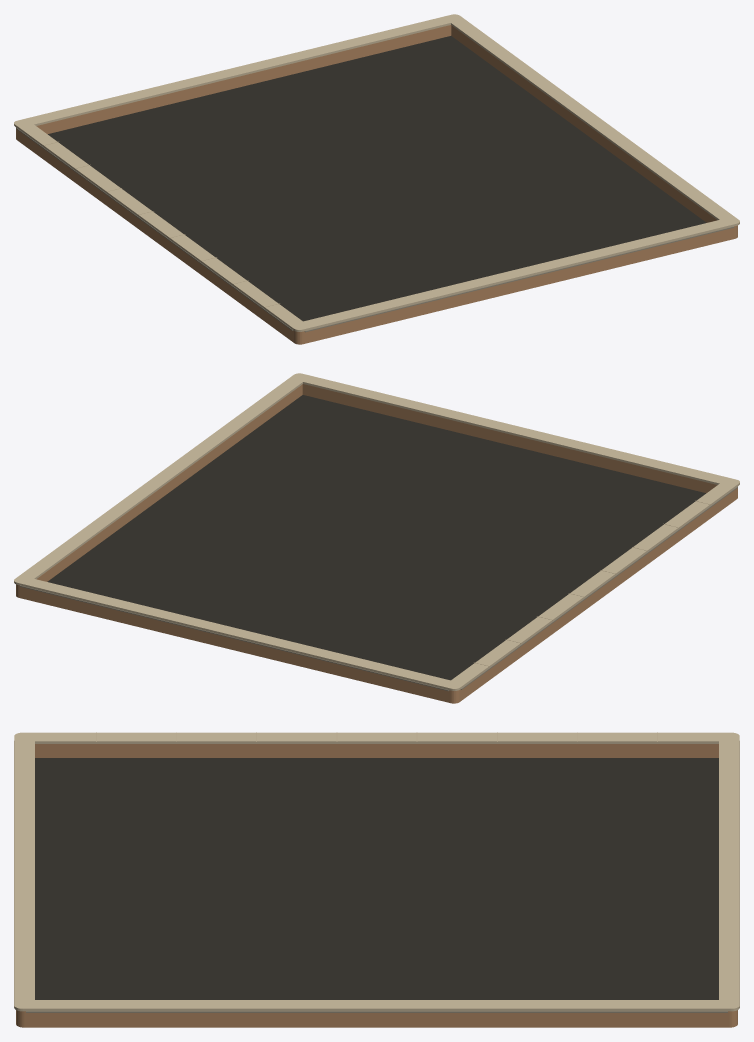
File: SM_Homes_H03_Roof.fbx
The picture shows the model from 3 angles, top to bottom: view 1: azimuth 30°, elevation 25°; view 2: azimuth 150°, elevation 25°; view 3: azimuth 270°, elevation 25°; orthographic projection. The views are drawn at different scales.
Parts seen in each view (by area): view 1: SM_Homes_H03_Roof; view 2: SM_Homes_H03_Roof; view 3: SM_Homes_H03_Roof.
Part boxes in pixels (x1,y1,x2,y2): SM_Homes_H03_Roof: (14, 14, 739, 344); SM_Homes_H03_Roof: (14, 373, 739, 703); SM_Homes_H03_Roof: (14, 732, 739, 1027).
Bounding box in the file's own units: 9.06 × 10.06 × 0.344.
